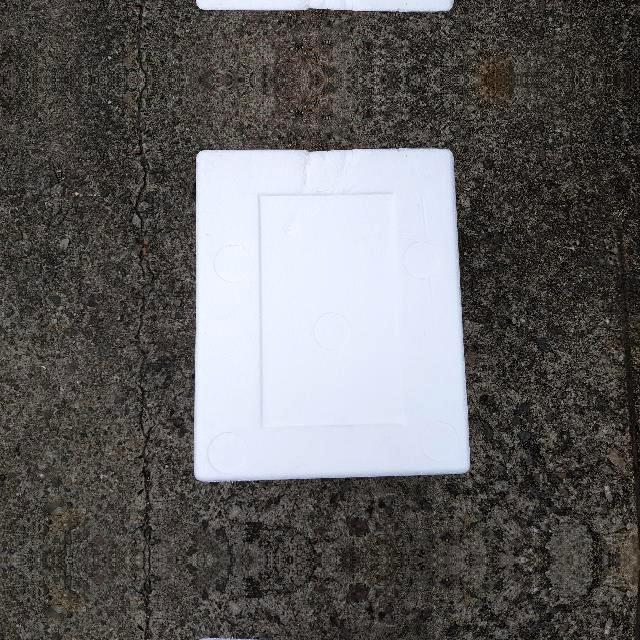Styrofoam: (190, 145, 470, 482), (194, 148, 471, 482)
